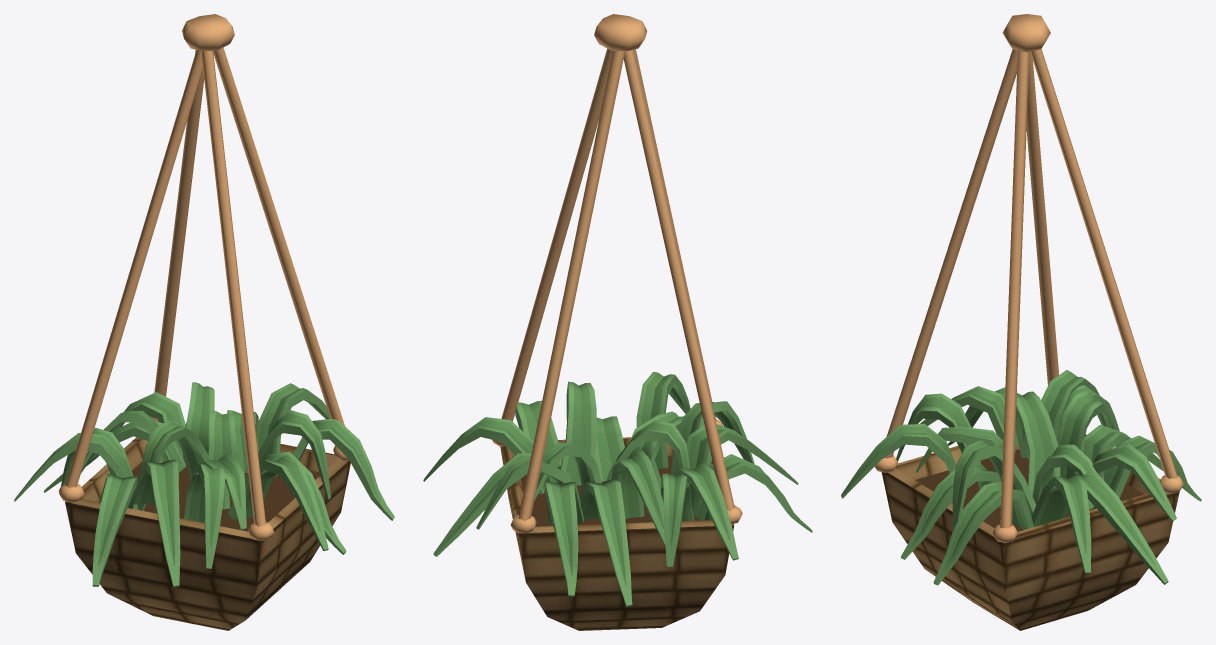
File: SM_Prop_HangingPlanter_03.obj
3 views of the same model, side by side, from view 1: azimuth 30°, elevation 25°; view 2: azimuth 150°, elevation 25°; view 3: azimuth 270°, elevation 25° (orthographic).
Parts seen in each view (by area): view 1: SM_Prop_HangingPlanter_03_Mat_SwatchOverlay_PolygonOffice_01_Ins, SM_Prop_HangingPlanter_03_Mat_SwatchOverlay_Farm_01_Inst, SM_Prop_HangingPlanter_03_Mat_SwatchOverlay_Farm_Main_01_Inst; view 2: SM_Prop_HangingPlanter_03_Mat_SwatchOverlay_PolygonOffice_01_Ins, SM_Prop_HangingPlanter_03_Mat_SwatchOverlay_Farm_01_Inst, SM_Prop_HangingPlanter_03_Mat_SwatchOverlay_Farm_Main_01_Inst; view 3: SM_Prop_HangingPlanter_03_Mat_SwatchOverlay_PolygonOffice_01_Ins, SM_Prop_HangingPlanter_03_Mat_SwatchOverlay_Farm_01_Inst, SM_Prop_HangingPlanter_03_Mat_SwatchOverlay_Farm_Main_01_Inst.
Part boxes in pixels (left/top/right/bottom): SM_Prop_HangingPlanter_03_Mat_SwatchOverlay_PolygonOffice_01_Ins: left=14, top=382, right=394, bottom=587; SM_Prop_HangingPlanter_03_Mat_SwatchOverlay_Farm_01_Inst: left=58, top=14, right=349, bottom=540; SM_Prop_HangingPlanter_03_Mat_SwatchOverlay_Farm_Main_01_Inst: left=65, top=437, right=350, bottom=630; SM_Prop_HangingPlanter_03_Mat_SwatchOverlay_PolygonOffice_01_Ins: left=423, top=372, right=812, bottom=607; SM_Prop_HangingPlanter_03_Mat_SwatchOverlay_Farm_01_Inst: left=492, top=14, right=742, bottom=533; SM_Prop_HangingPlanter_03_Mat_SwatchOverlay_Farm_Main_01_Inst: left=500, top=437, right=734, bottom=630; SM_Prop_HangingPlanter_03_Mat_SwatchOverlay_PolygonOffice_01_Ins: left=841, top=370, right=1201, bottom=585; SM_Prop_HangingPlanter_03_Mat_SwatchOverlay_Farm_01_Inst: left=874, top=14, right=1183, bottom=542; SM_Prop_HangingPlanter_03_Mat_SwatchOverlay_Farm_Main_01_Inst: left=881, top=434, right=1179, bottom=630.
Size of the model in its own units: 0.5774 by 1.02 by 0.5641.
3 materials, 3 textured.
